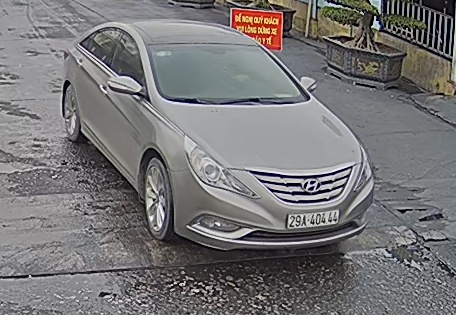vehicle plate: (282, 206, 348, 231)
